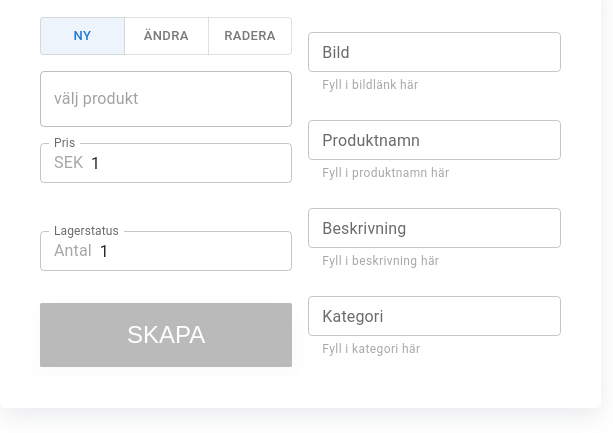
Test: AdminCms Component › should let me search for a product to select
This screenshot has width=613, height=433.
Click the button "ÄNDRA" at (166, 36), box x1=124 y1=17 x2=209 y2=56
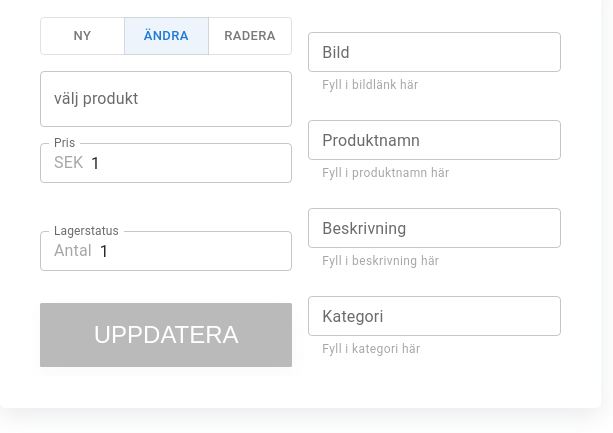
Type "s" into the dropdown labelled "välj produkt" at (166, 100), box x1=49 y1=80 x2=283 y2=118
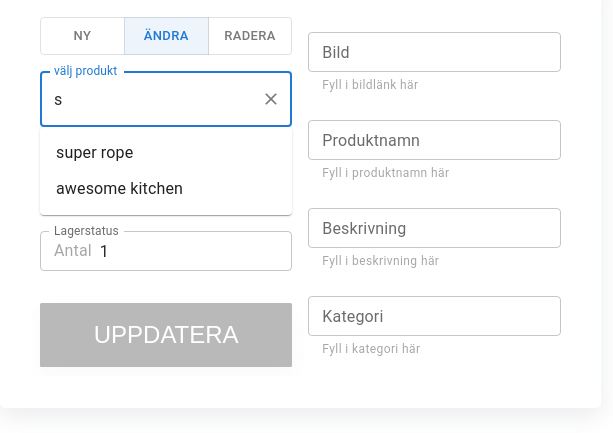
Click the option "super rope" at (95, 152), box x1=56 y1=143 x2=133 y2=162
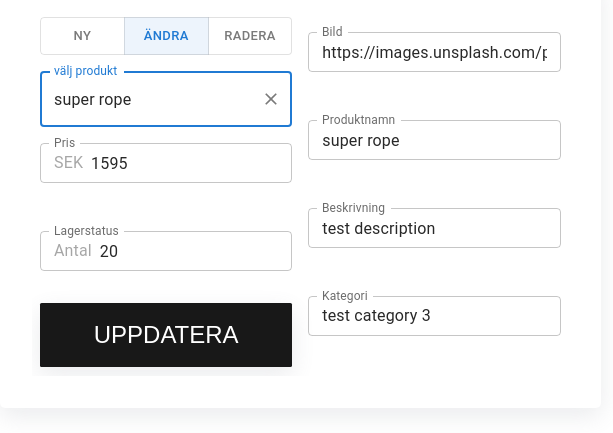
Expected: the field labelled "Kategori" holds "test category 3", x1=308 y1=296 x2=561 y2=336
